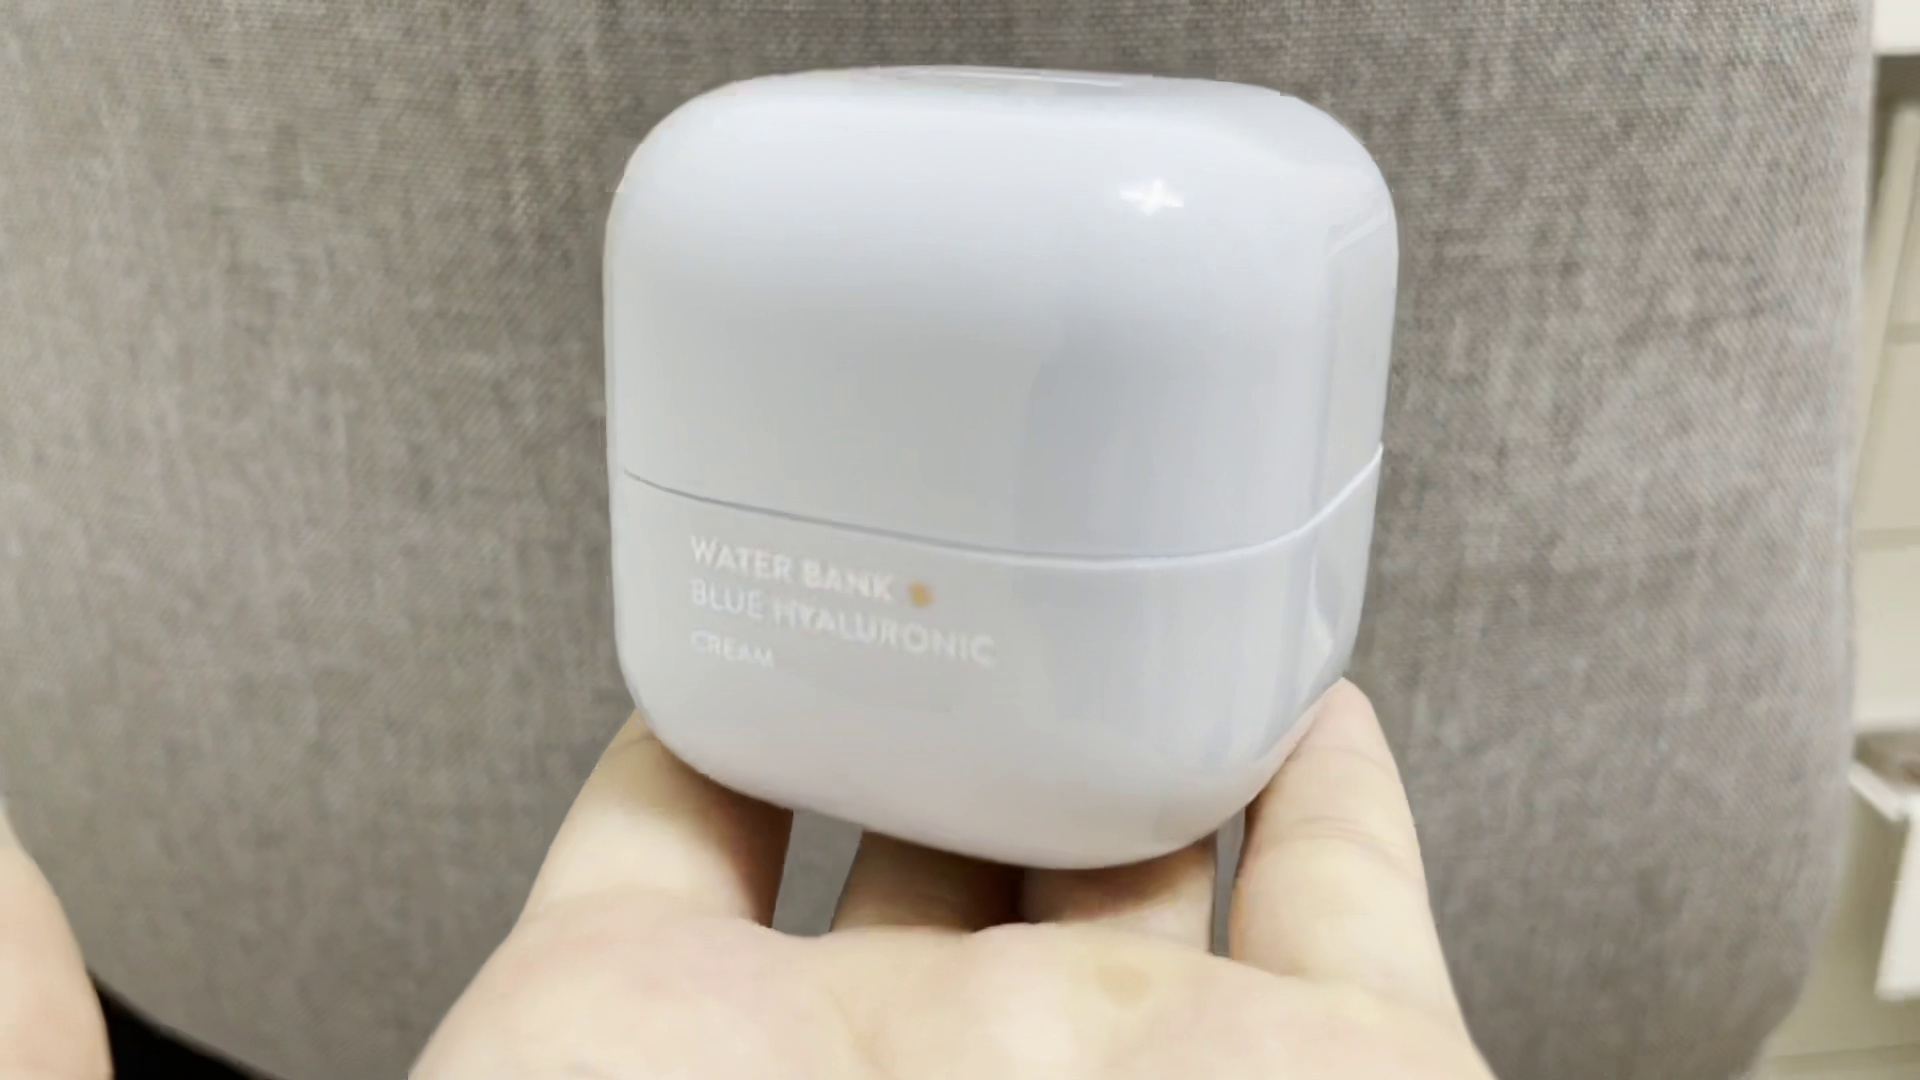cream: (608, 69, 1394, 864)
